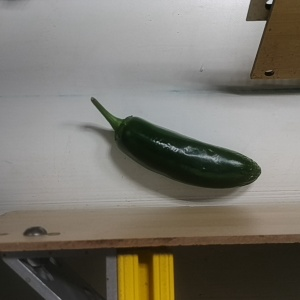Cut Point: (104, 110, 146, 150)
